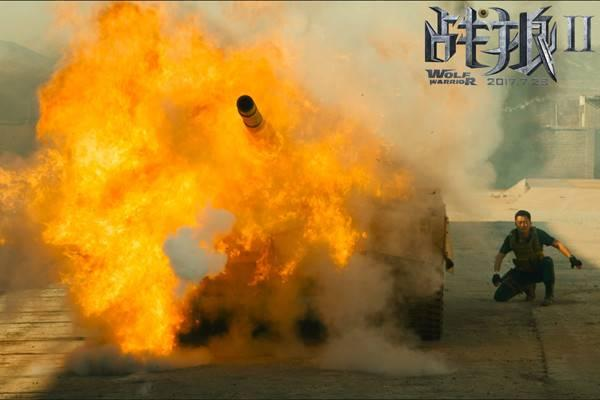fire: (1, 1, 412, 361)
